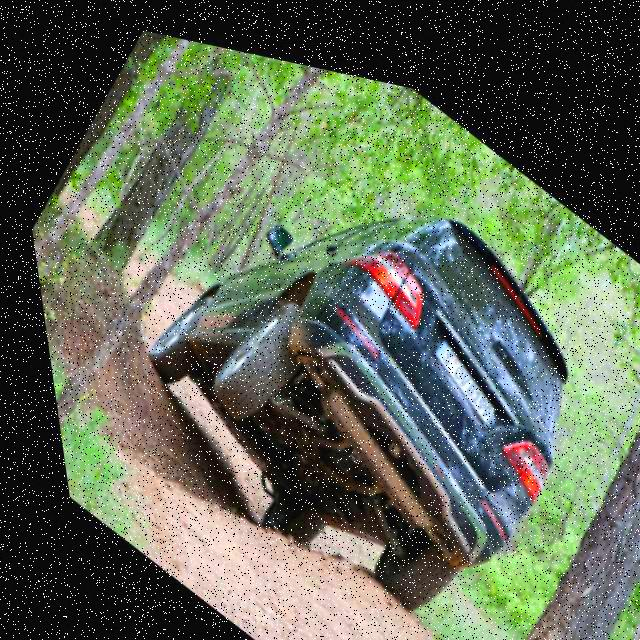license_plate: (399, 300, 518, 427)
